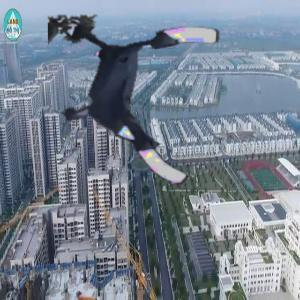drone: (49, 14, 224, 189)
